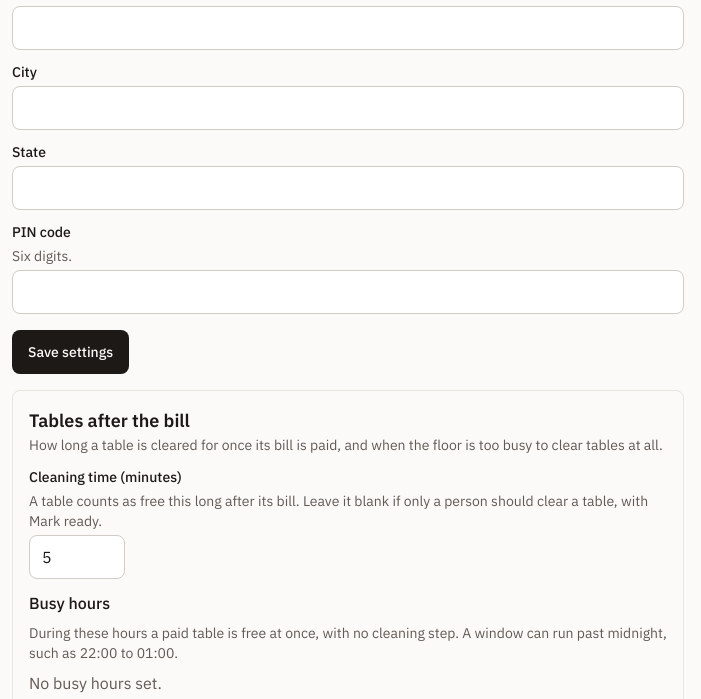
Scenario: saving › reports a refusal from the server rather than failing silently
(page scrolled)
Click the button "Save settings" at [71, 352], box left=12, top=330, right=129, bottom=374
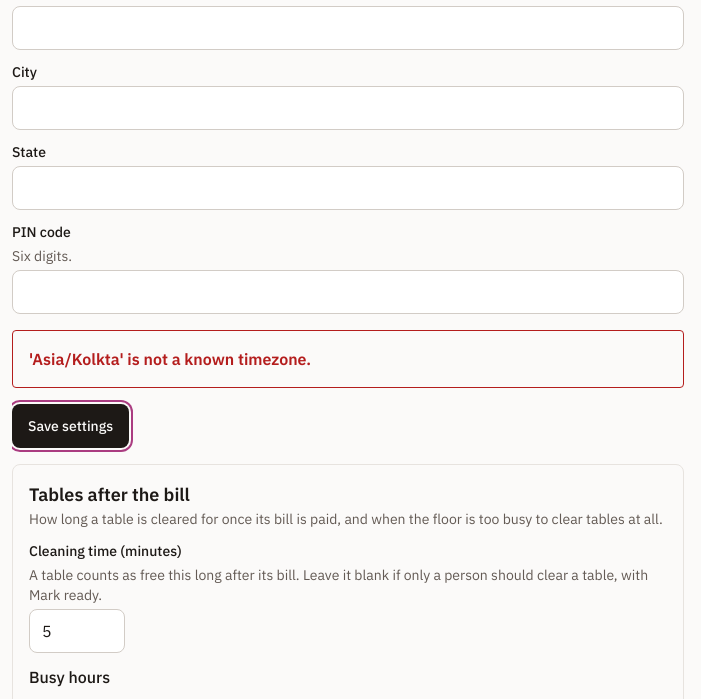
Expected: the text "'Asia/Kolkta' is not a known timezone." is shown, left=29, top=349, right=311, bottom=369
